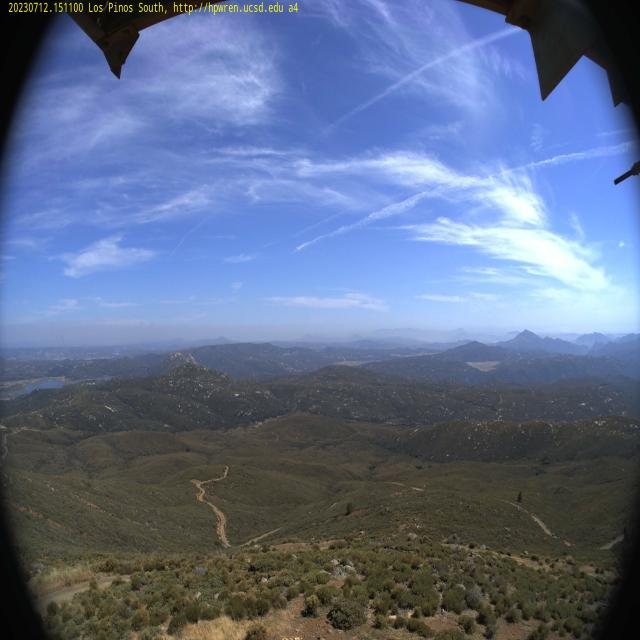smoke: (46, 328, 73, 360)
